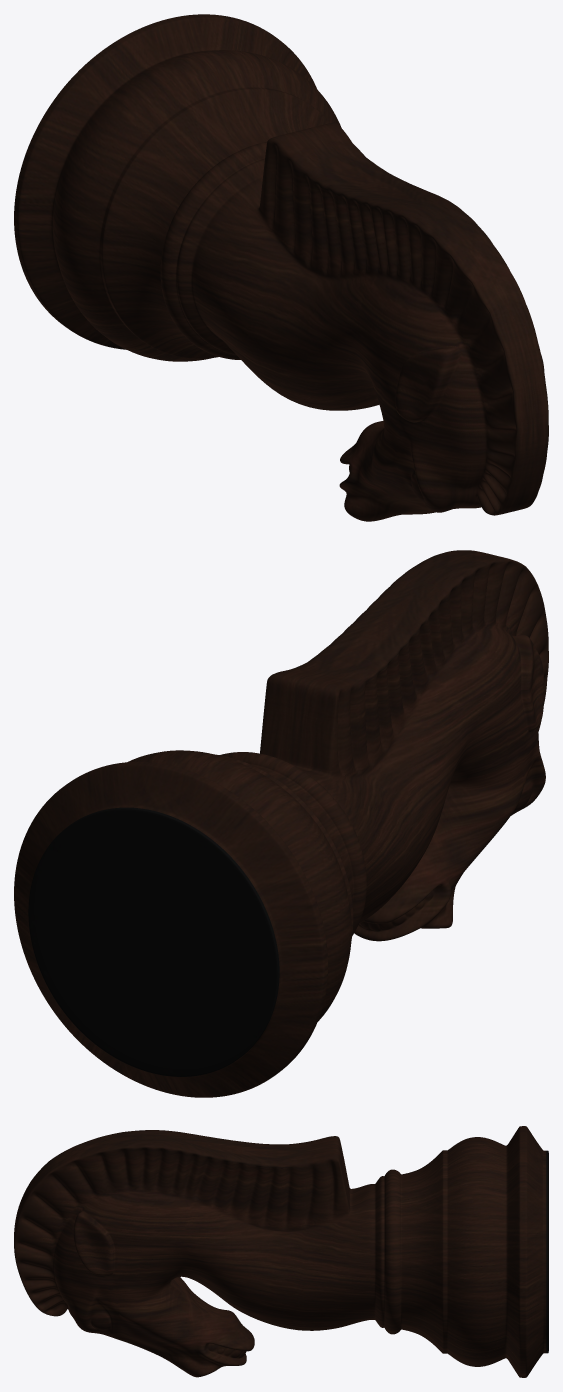
File: 12936_Wooden_Chess_Knight_Side_B_V2_l3.obj
3 views of the same model, one above another, from view 1: azimuth 30°, elevation 25°; view 2: azimuth 150°, elevation 25°; view 3: azimuth 270°, elevation 25° (orthographic). The views are drawn at different scales.
Parts seen in each view (by area): view 1: WoodenChessNightSideB; view 2: WoodenChessNightSideB; view 3: WoodenChessNightSideB.
Boxes of the visible parts, x1=… form: WoodenChessNightSideB: x1=14, y1=14, x2=548, y2=521; WoodenChessNightSideB: x1=14, y1=550, x2=548, y2=1097; WoodenChessNightSideB: x1=14, y1=1126, x2=548, y2=1377.
Bounding box in the file's own units: 4.62 × 4.63 × 9.82.
1 material, 1 textured.
